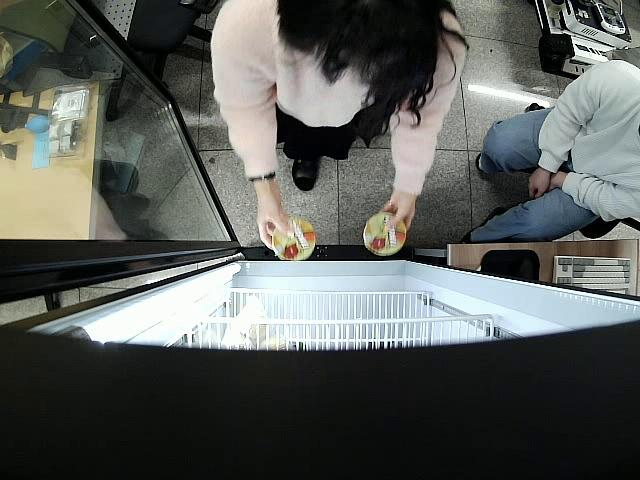00_hand: (255, 187, 296, 251), (375, 191, 416, 238)
04_chapagetti_S: (271, 218, 315, 261), (364, 213, 406, 255)
